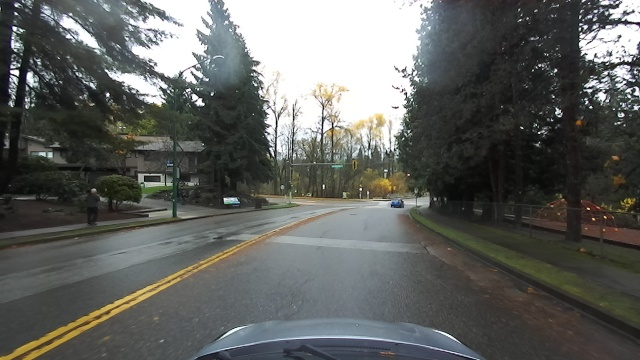car: (388, 198, 408, 208)
